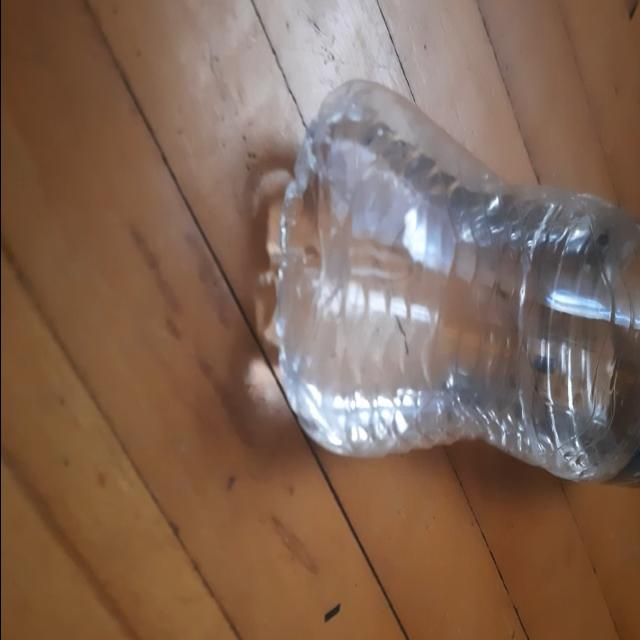Plastic: (252, 77, 640, 488)
